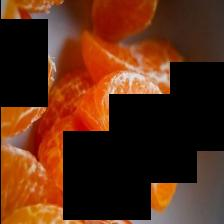orange: (73, 71, 180, 213), (76, 71, 180, 213), (0, 145, 129, 224), (0, 1, 54, 140), (80, 31, 182, 97), (36, 117, 93, 206), (35, 69, 92, 146), (91, 0, 157, 43), (68, 196, 130, 224), (0, 204, 81, 224), (168, 95, 192, 161), (15, 0, 62, 13)
